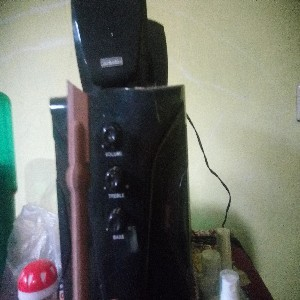cutter: (64, 78, 92, 300)
